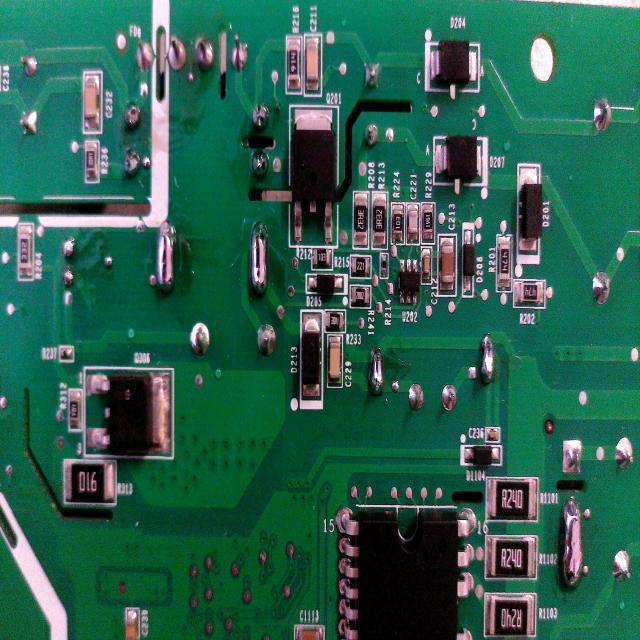Soldering shorted: (558, 491, 584, 598), (152, 218, 177, 296), (249, 219, 271, 304), (476, 330, 499, 392), (368, 340, 386, 400)
